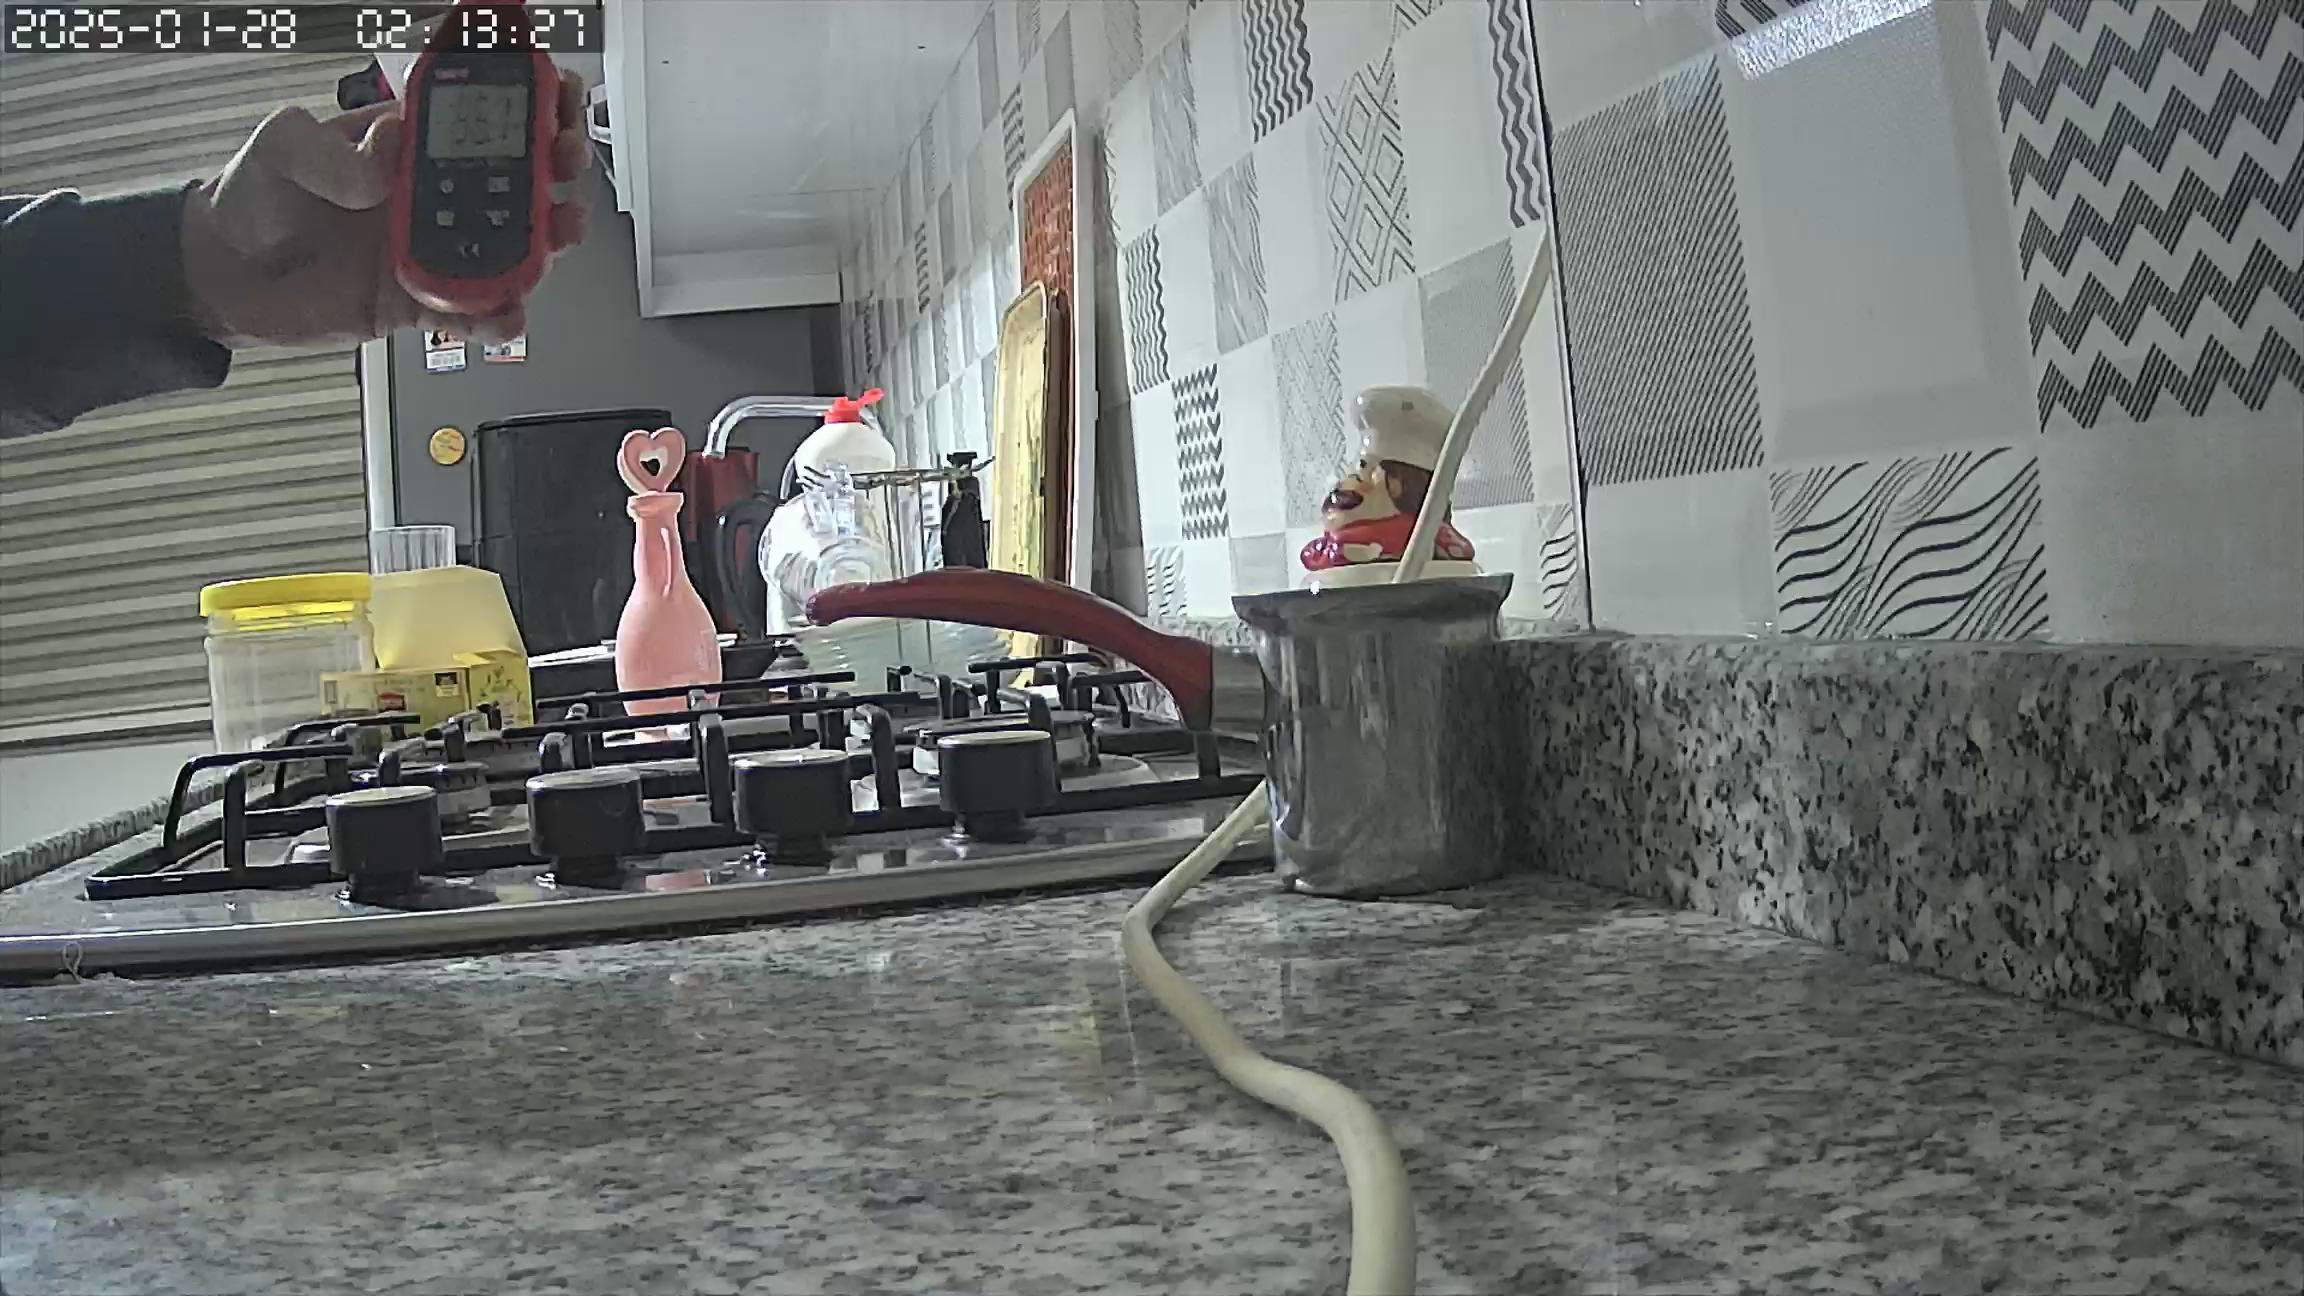screen: (426, 82, 527, 160)
